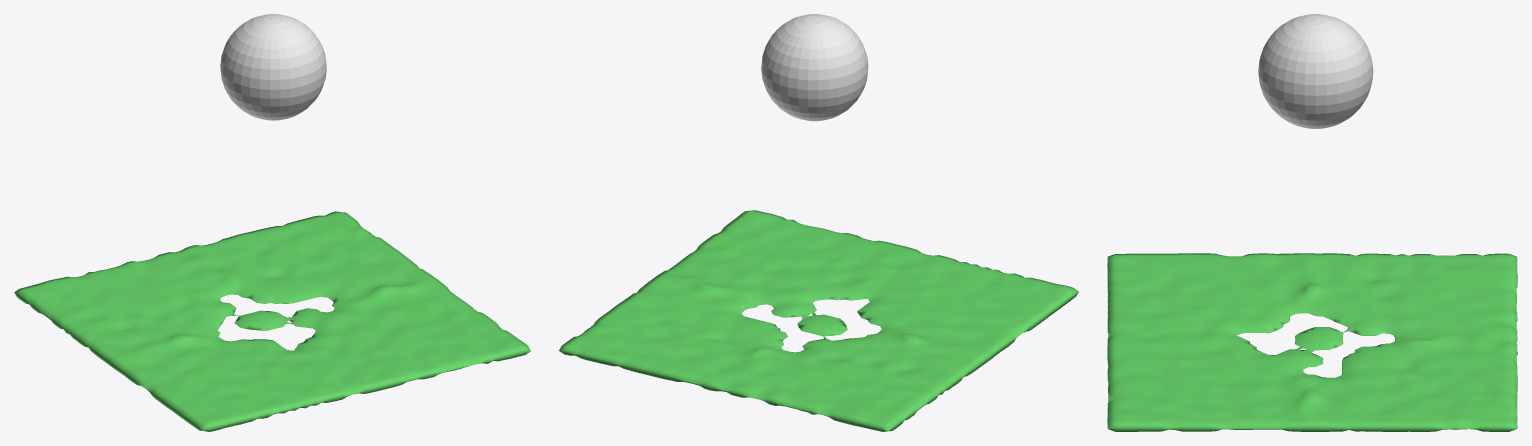
Rendered from puddle4.fbx.
3 views of the same model, side by side, from view 1: azimuth 30°, elevation 25°; view 2: azimuth 150°, elevation 25°; view 3: azimuth 270°, elevation 25° (orthographic). The views are drawn at different scales.
Parts seen in each view (by area): view 1: Cube, Sphere; view 2: Cube, Sphere; view 3: Cube, Sphere.
Part boxes in pixels (x1=…): Cube: x1=14, y1=211, x2=530, y2=431; Sphere: x1=220, y1=14, x2=326, y2=120; Cube: x1=559, y1=210, x2=1078, y2=431; Sphere: x1=761, y1=14, x2=868, y2=121; Cube: x1=1107, y1=253, x2=1517, y2=431; Sphere: x1=1258, y1=14, x2=1373, y2=128.
Size of the model in its own units: 603 by 534 by 603.
